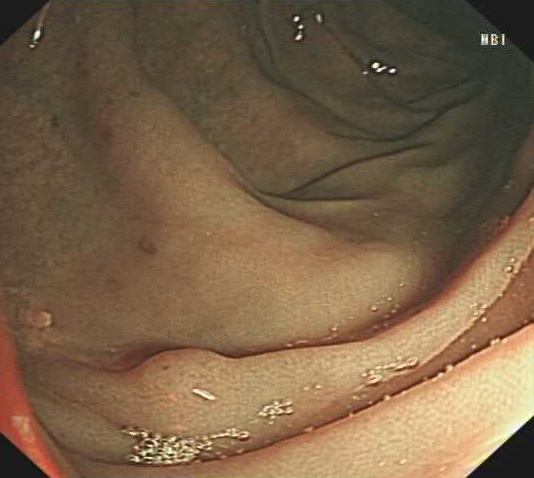others: (127, 346, 232, 395)
